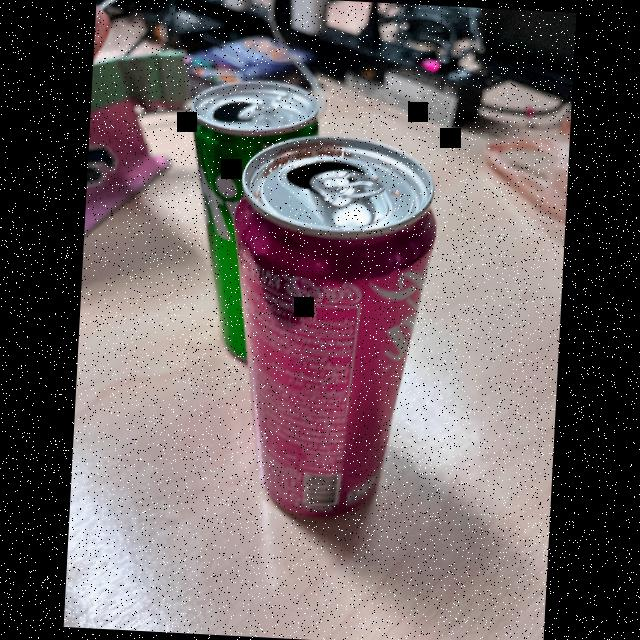can: (227, 136, 443, 534), (175, 70, 321, 372)
